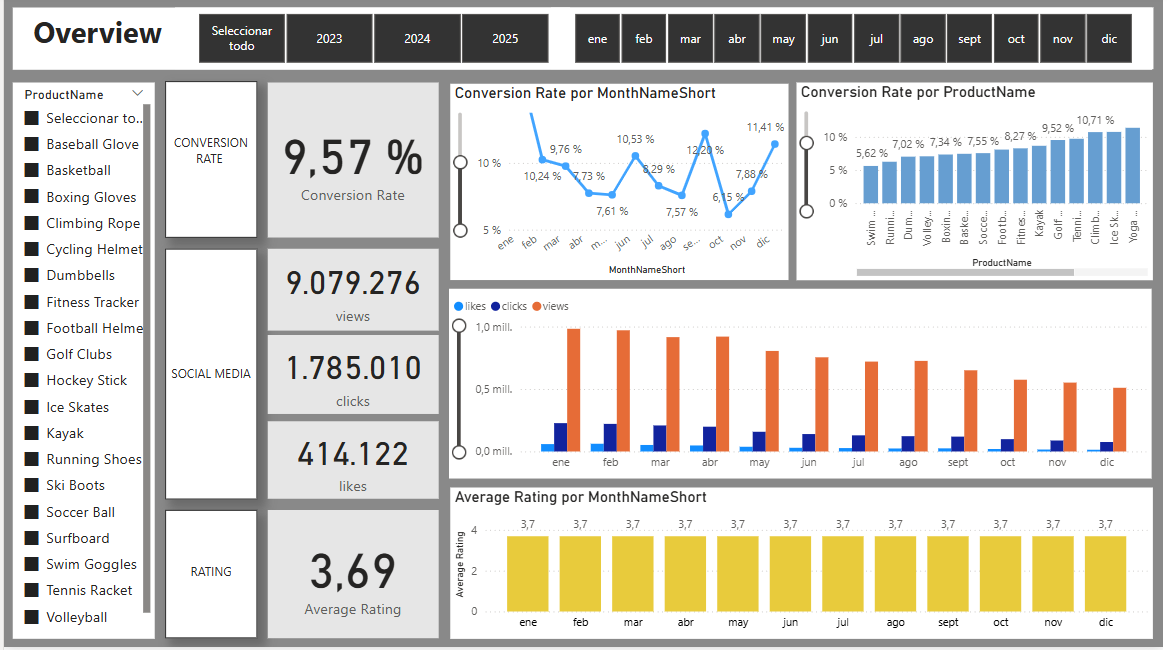

This screenshot's page, from the dashboard's own definition file:
{"tool":"powerbi","page":{"name":"Overview","canvas":[1280,720],"ordinal":0},"visuals":[{"type":"textbox","box":[10.1,14.4,1258.7,69],"z":0},{"type":"slicer","fields":{"Values":["dim_products.ProductName"]},"box":[10.1,96.4,156.8,614.3],"z":1000},{"type":"textbox","box":[178.6,95.7,101.4,172.9],"z":2000},{"type":"textbox","box":[178.6,280,101.4,277.1],"z":3000},{"type":"textbox","box":[178.6,568.6,101.4,141.4],"z":4000},{"type":"card","fields":{"Values":["_Calculations.Conversion Rate"]},"box":[291.4,97.1,188.6,171.4],"z":5000},{"type":"card","fields":{"Values":["_Calculations.views"]},"box":[291.4,280,188.6,90],"z":6000},{"type":"card","fields":{"Values":["_Calculations.likes"]},"box":[291.4,471.4,188.6,85.7],"z":7000},{"type":"card","fields":{"Values":["_Calculations.clicks"]},"box":[291.4,375.7,188.6,87.1],"z":8000},{"type":"card","fields":{"Values":["_Calculations.Average Rating"]},"box":[291.4,568.6,188.6,141.4],"z":9000},{"type":"slicer","fields":{"Values":["Calendar.MonthNameShort"]},"box":[604.2,14.4,664.6,67.6],"z":10000},{"type":"slicer","fields":{"Values":["Calendar.Year"]},"box":[188.4,14.4,435.9,67.6],"z":11000},{"type":"lineChart","fields":{"Y":["_Calculations.Conversion Rate"],"Category":["Calendar.MonthNameShort"]},"box":[492.2,97.7,374,217.2],"z":12000},{"type":"columnChart","fields":{"Category":["dim_products.ProductName"],"Y":["_Calculations.Conversion Rate"]},"box":[875.9,96.5,393.3,218.4],"z":13000},{"type":"clusteredColumnChart","fields":{"Category":["Calendar.MonthNameShort"],"Y":["_Calculations.likes","_Calculations.clicks","_Calculations.views"]},"box":[491,324.5,775.7,209.9],"z":14000},{"type":"clusteredColumnChart","fields":{"Category":["Calendar.MonthNameShort"],"Y":["_Calculations.Average Rating"]},"box":[492.9,544.3,775.7,167.1],"z":15000}]}

Visuals, with their boxes in screenshot pixels (x1, y1, x2, y2), scaled from the page's 1280x720 canvas onto the 1167x650 screenshot:
textbox: pyautogui.locateOnScreen(9, 13, 1157, 75)
slicer - dim_products.ProductName: pyautogui.locateOnScreen(9, 87, 152, 642)
textbox: pyautogui.locateOnScreen(163, 86, 255, 242)
textbox: pyautogui.locateOnScreen(163, 253, 255, 503)
textbox: pyautogui.locateOnScreen(163, 513, 255, 641)
card - _Calculations.Conversion Rate: pyautogui.locateOnScreen(266, 88, 438, 242)
card - _Calculations.views: pyautogui.locateOnScreen(266, 253, 438, 334)
card - _Calculations.likes: pyautogui.locateOnScreen(266, 426, 438, 503)
card - _Calculations.clicks: pyautogui.locateOnScreen(266, 339, 438, 418)
card - _Calculations.Average Rating: pyautogui.locateOnScreen(266, 513, 438, 641)
slicer - Calendar.MonthNameShort: pyautogui.locateOnScreen(551, 13, 1157, 74)
slicer - Calendar.Year: pyautogui.locateOnScreen(172, 13, 569, 74)
lineChart - _Calculations.Conversion Rate x Calendar.MonthNameShort: pyautogui.locateOnScreen(449, 88, 790, 284)
columnChart - dim_products.ProductName x _Calculations.Conversion Rate: pyautogui.locateOnScreen(799, 87, 1157, 284)
clusteredColumnChart - Calendar.MonthNameShort x _Calculations.likes: pyautogui.locateOnScreen(448, 293, 1155, 482)
clusteredColumnChart - Calendar.MonthNameShort x _Calculations.Average Rating: pyautogui.locateOnScreen(449, 491, 1157, 642)
